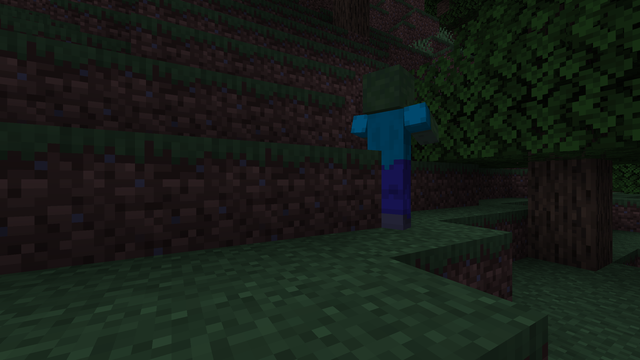zombies: (356, 66, 422, 232)
